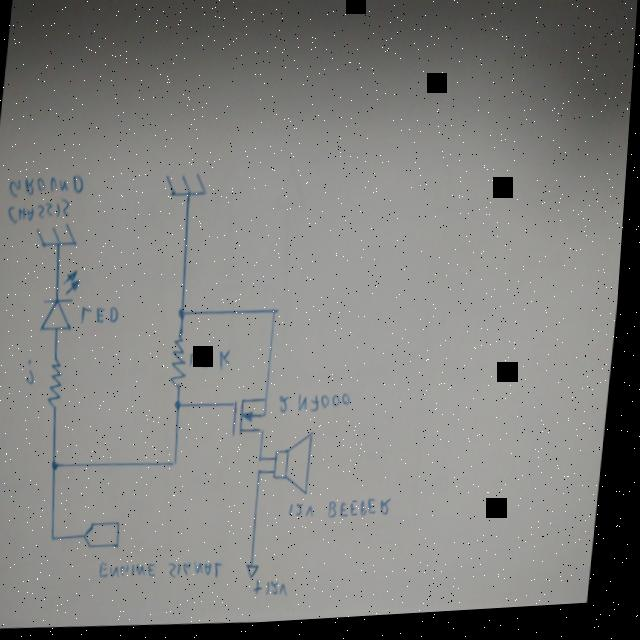diode: (40, 267, 85, 334)
ground: (164, 171, 211, 201), (36, 220, 81, 250)
junction: (54, 459, 65, 473), (180, 309, 189, 324), (273, 309, 284, 321), (177, 401, 186, 414), (175, 460, 184, 470), (56, 533, 63, 543), (262, 470, 268, 481), (263, 456, 269, 466)
resistor: (171, 334, 194, 392), (49, 354, 70, 410)
source: (250, 564, 268, 584)
terminal: (87, 519, 128, 552)
text: (102, 556, 232, 588), (7, 170, 87, 201), (280, 390, 357, 421), (6, 196, 73, 225), (332, 498, 398, 525), (191, 346, 236, 373), (83, 303, 123, 328), (257, 579, 297, 603), (293, 502, 321, 524), (27, 357, 40, 385)
transistor: (232, 394, 275, 441)
